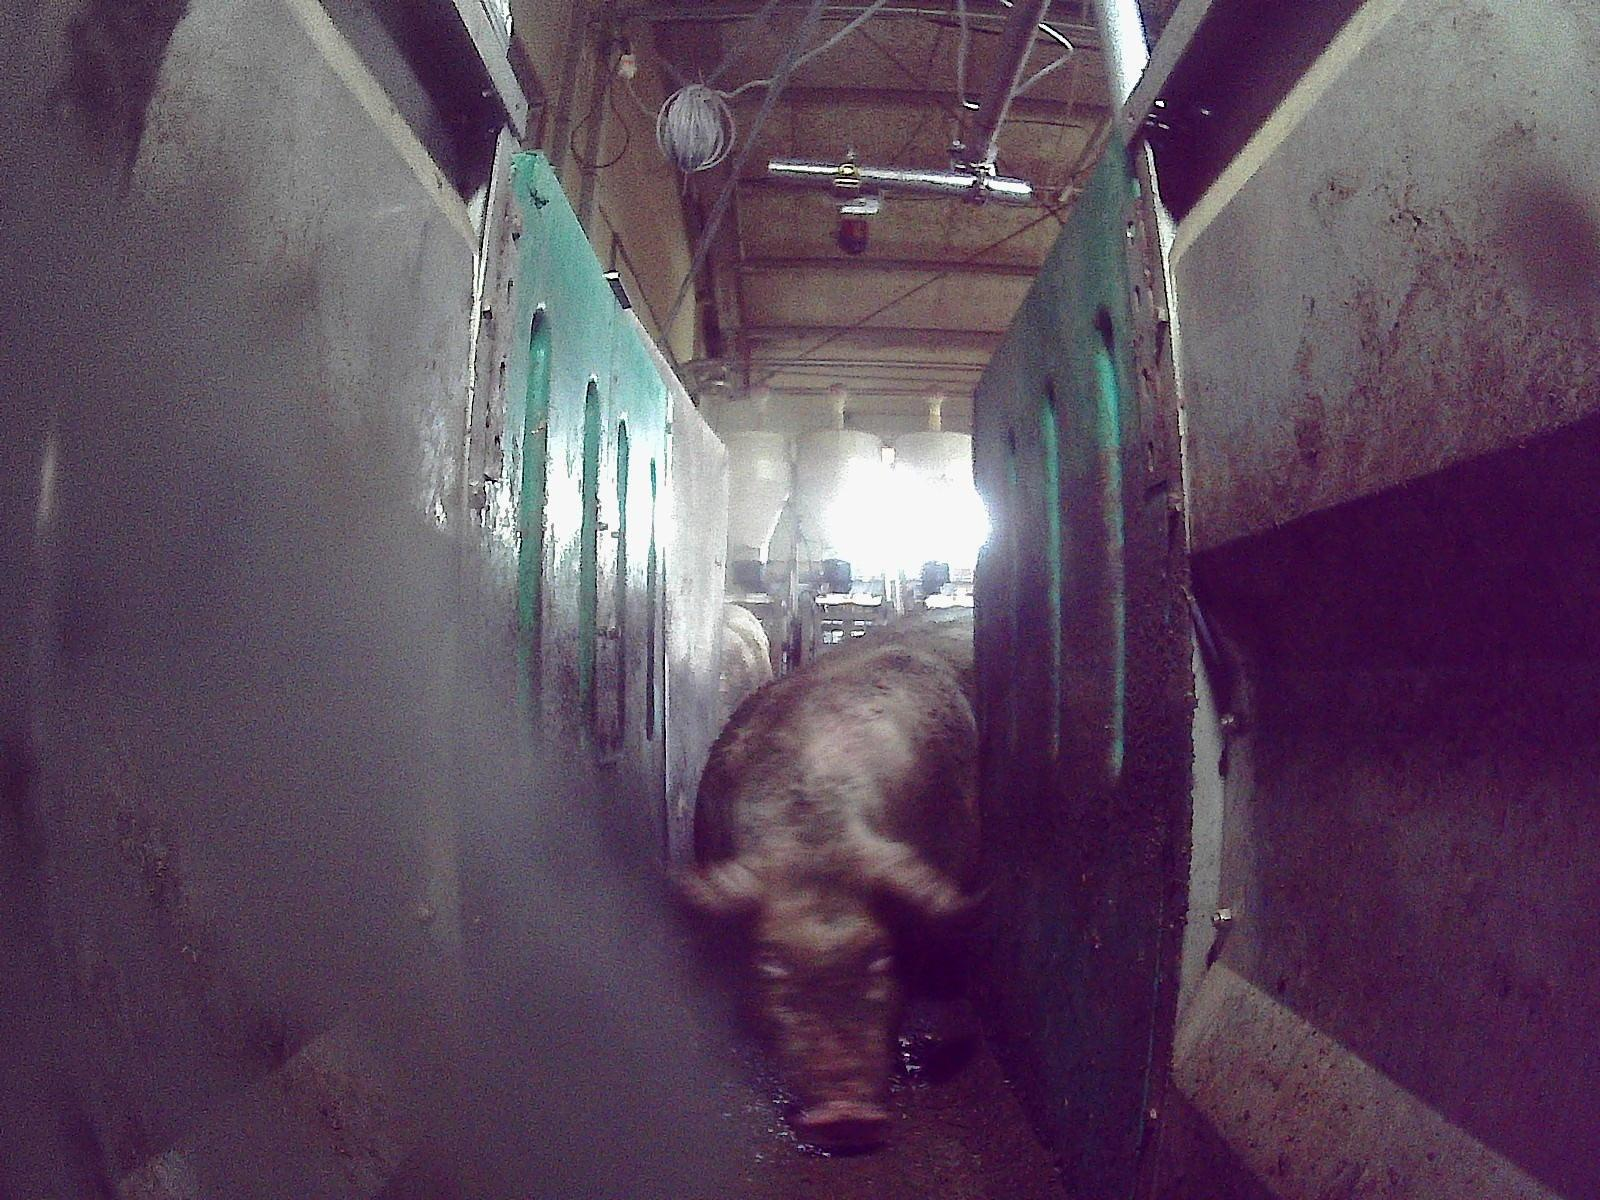Face: (725, 851, 932, 1151)
